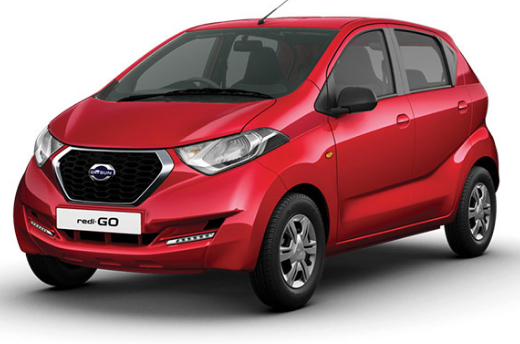car: (10, 12, 504, 318)
